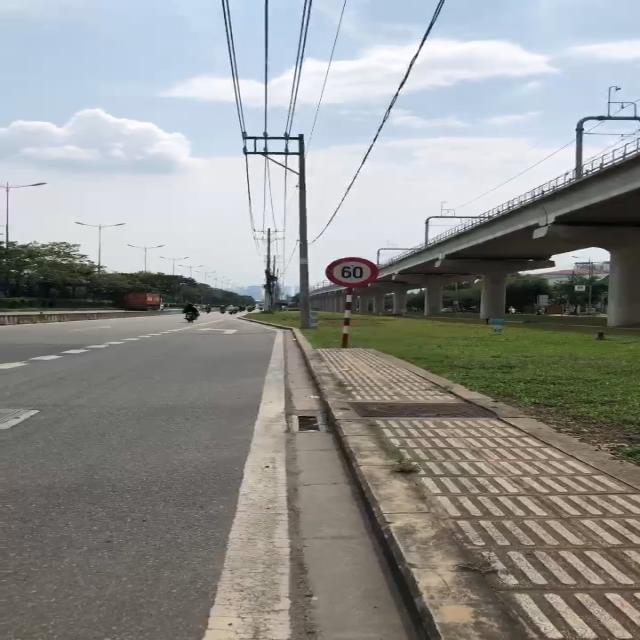Bien bao toc do toi da cho phep: (317, 252, 387, 290)
